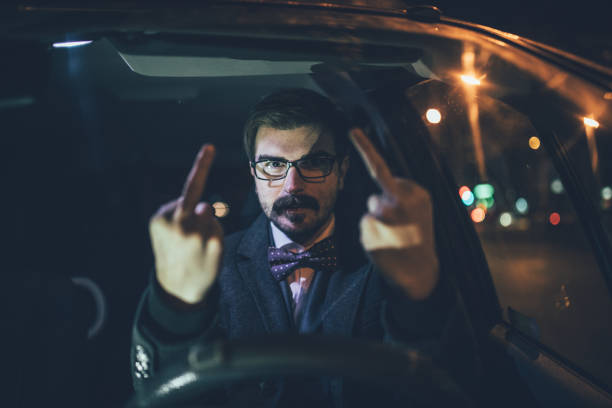insulting_gesture: (345, 128, 439, 285), (148, 143, 228, 292)
